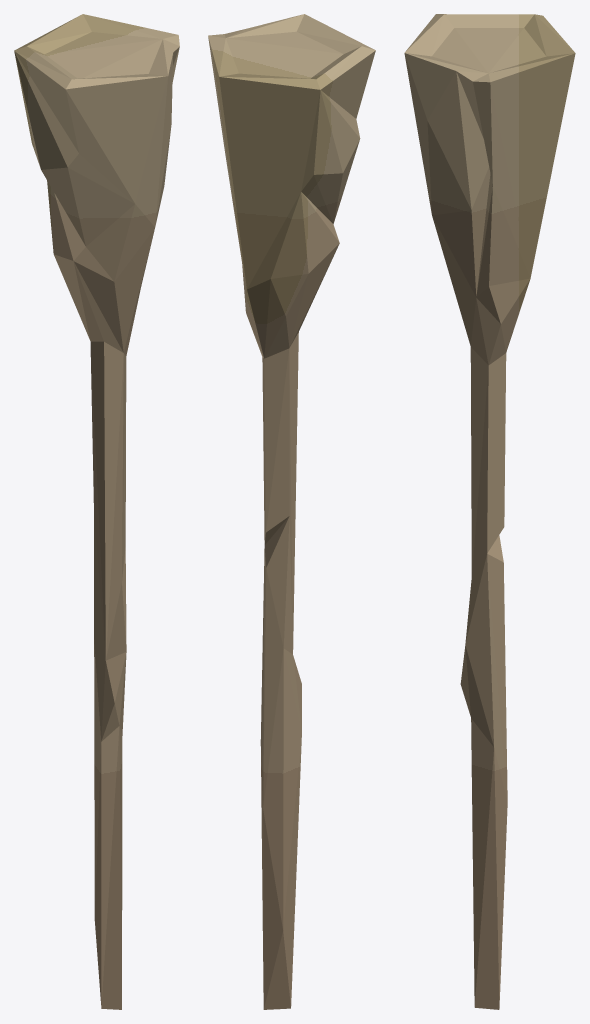
Rendered from YN_Torch.fbx.
3 renders of one model, left to right at view 1: azimuth 30°, elevation 25°; view 2: azimuth 150°, elevation 25°; view 3: azimuth 270°, elevation 25°, orthographic.
Visible parts, largest first — view 1: YN_Torch; view 2: YN_Torch; view 3: YN_Torch.
Part boxes in pixels (<box>): YN_Torch: <box>14,14,179,1009</box>; YN_Torch: <box>208,14,375,1009</box>; YN_Torch: <box>404,14,575,1009</box>.
Size of the model in its own units: 0.4725 by 3.08 by 0.4975.
